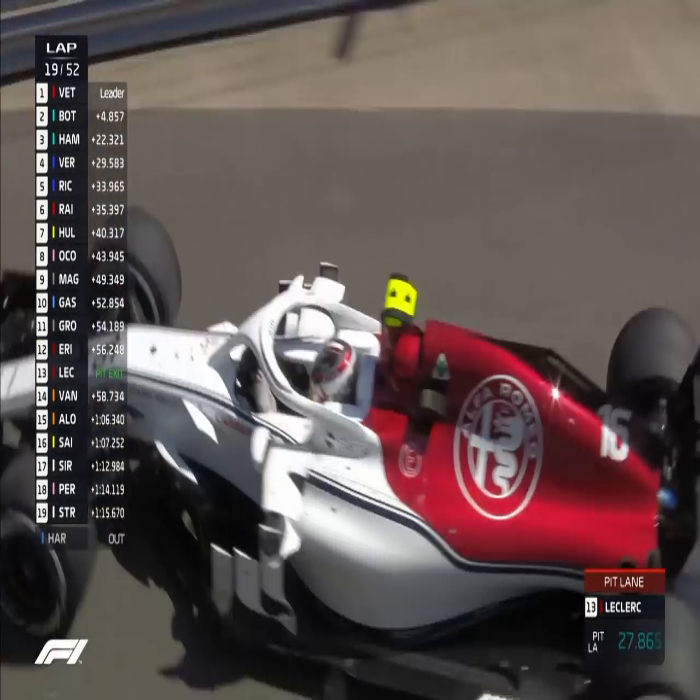f1_car: (3, 193, 699, 692)
